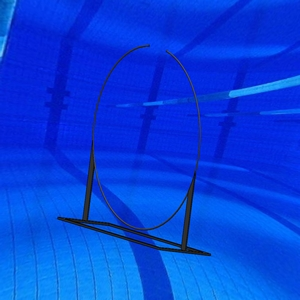circle: (57, 43, 212, 257)
